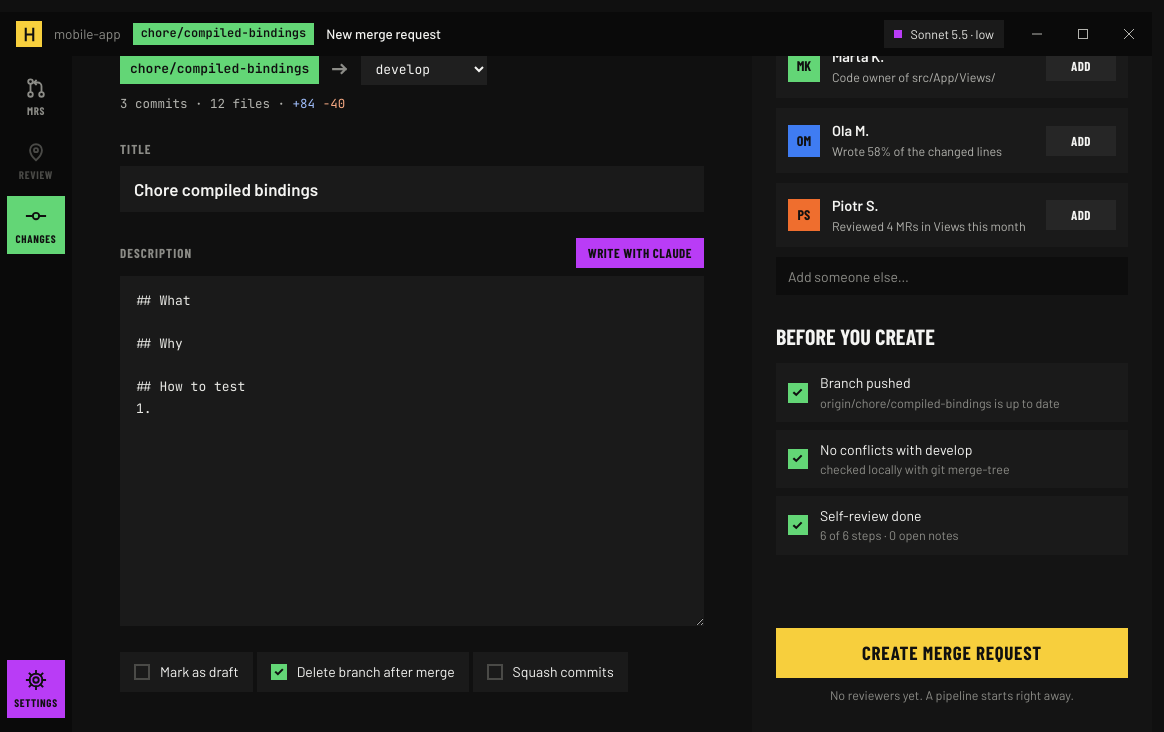
Scenario: S-11 created (F-27.6) › F-27.6 Copy link says Couldn’t copy. when the clipboard refuses
The image size is (1164, 732).
(page scrolled)
Check: the field labelled "Title" is not empty, box [120,166,704,212]
Click the button "Create merge request". click: click(952, 653)
box: [776,628,1128,678]
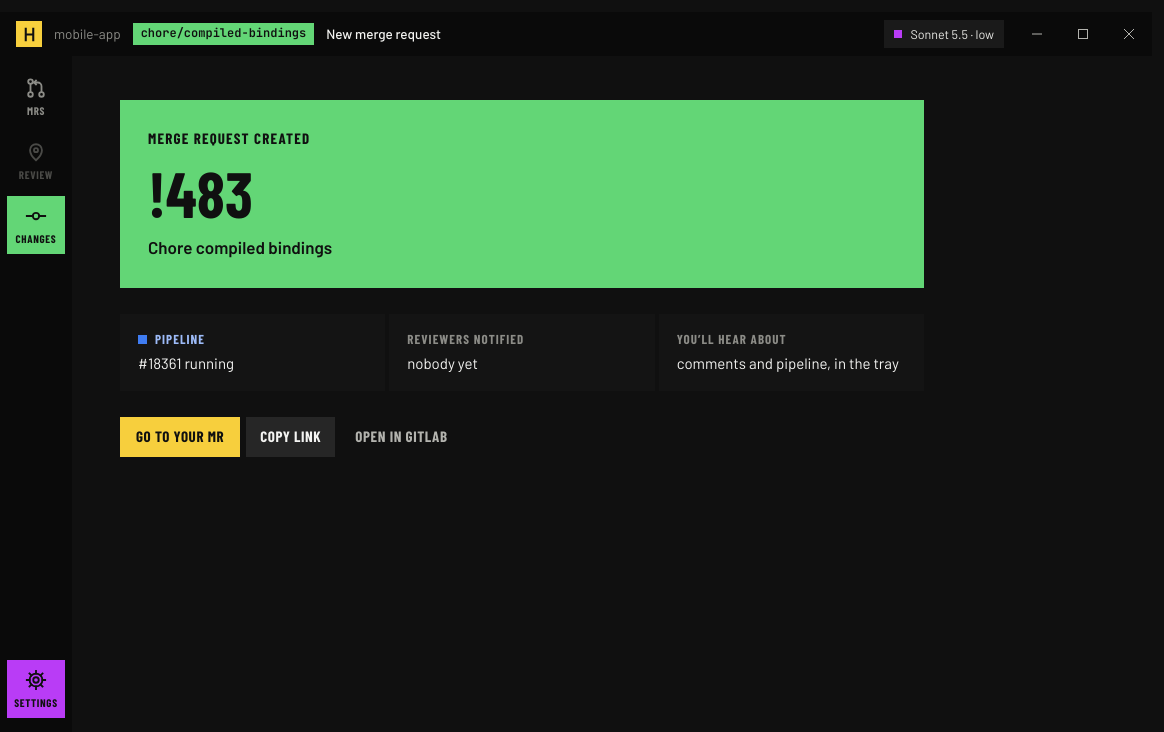
Click the button "Copy link". click: click(291, 437)
box: [246,417,335,457]
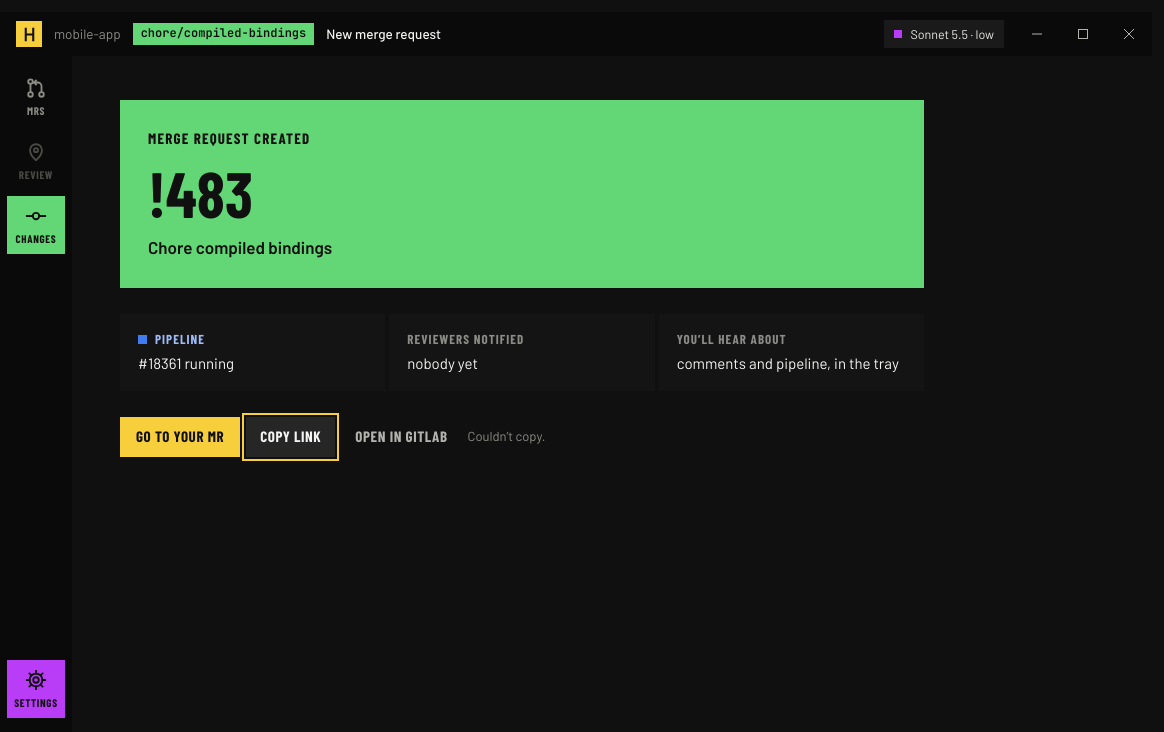
Check: the text "Couldn’t copy." is shown, box [468,427,545,446]
